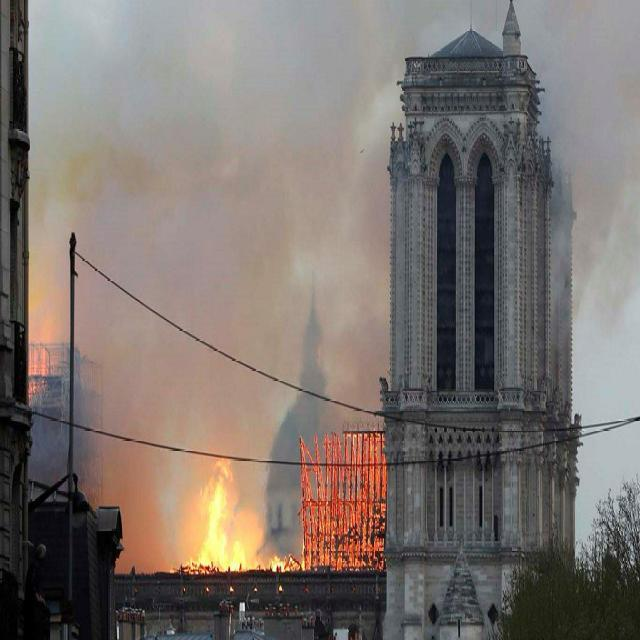Fire: (178, 446, 306, 580)
Smoke: (31, 1, 394, 446), (562, 92, 640, 322)
